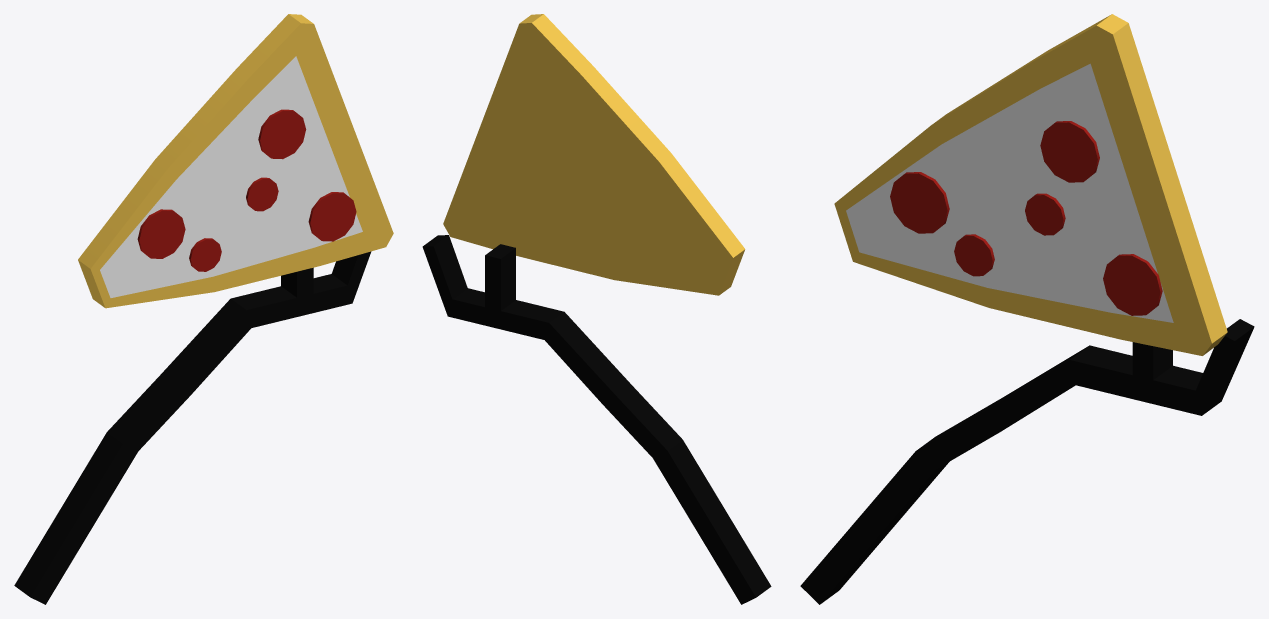
The model's file is MP_Pizza.FBX.
3 views of the same model, side by side, from view 1: azimuth 30°, elevation 25°; view 2: azimuth 150°, elevation 25°; view 3: azimuth 330°, elevation 25° (orthographic). The views are drawn at different scales.
Parts seen in each view (by area): view 1: MP_Pizza; view 2: MP_Pizza; view 3: MP_Pizza.
Boxes of the visible parts, box(x1,y1,x2,y2) form: MP_Pizza: box(14, 14, 393, 604); MP_Pizza: box(422, 14, 771, 604); MP_Pizza: box(800, 14, 1254, 604).
Bounding box in the file's own units: 249 × 365 × 42.6.
